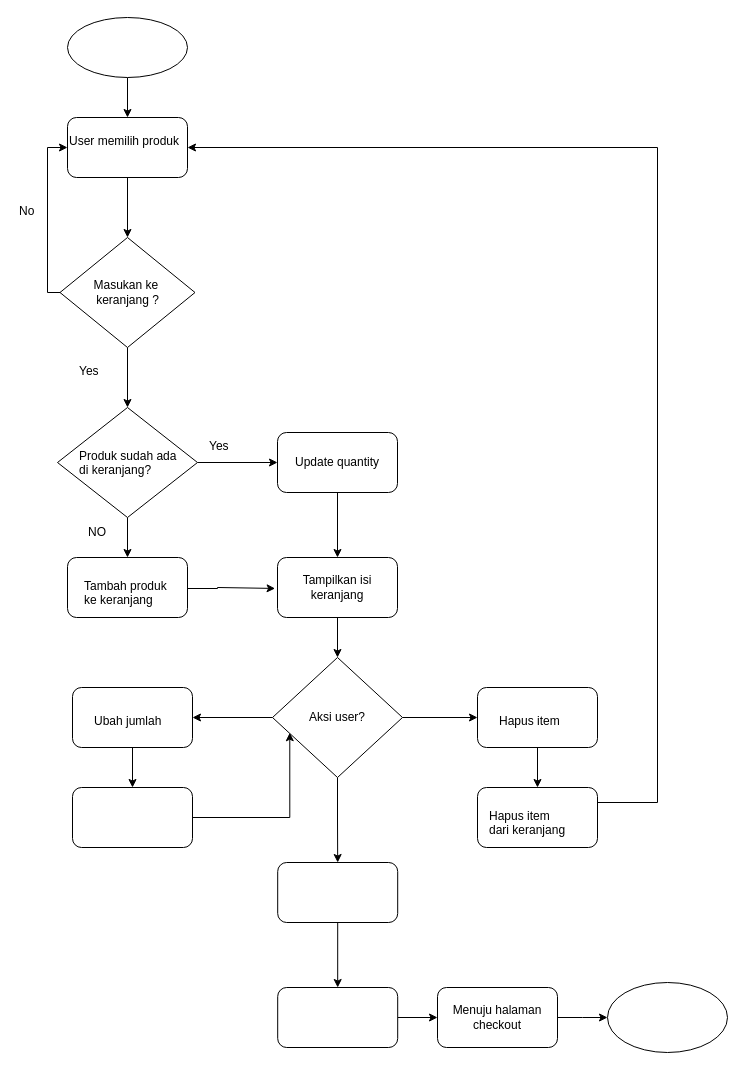
The diagram is 745 pixels wide and 1070 high, and some of its shapes have lost their labels. Each missing label, with the box of its shape:
Checkout: (277, 986, 398, 1048)
END: (606, 982, 728, 1052)
Kembali belanja: (277, 862, 398, 922)
START: (66, 16, 188, 78)
Update jumlah: (72, 786, 192, 848)
